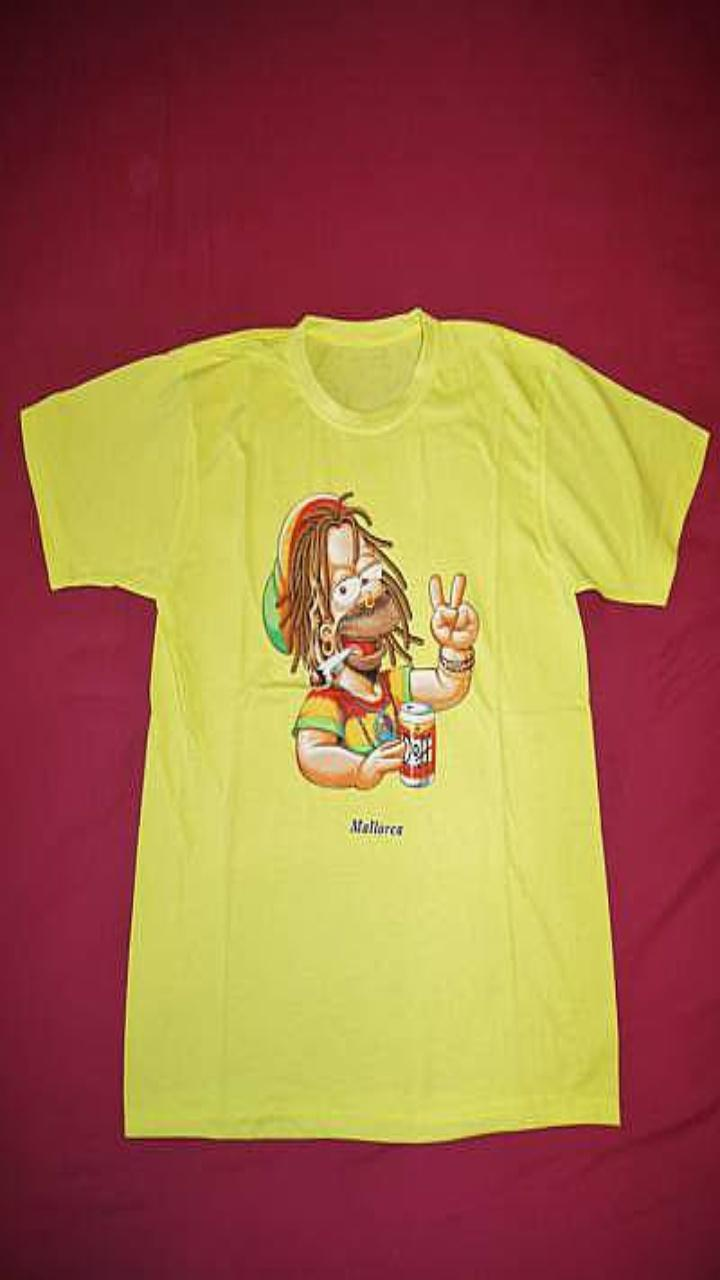T-Shirt: (20, 307, 708, 1141)
